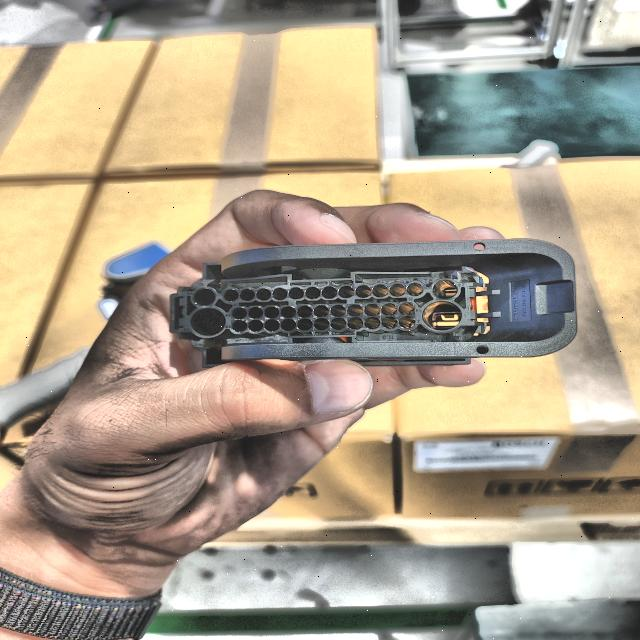P38: (170, 239, 577, 368)
